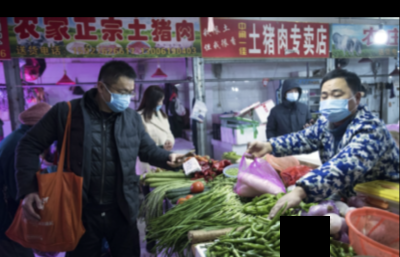mask_weared_incorrect: (156, 97, 164, 111)
with_mask: (318, 85, 355, 121), (106, 84, 135, 112), (285, 87, 299, 101)
